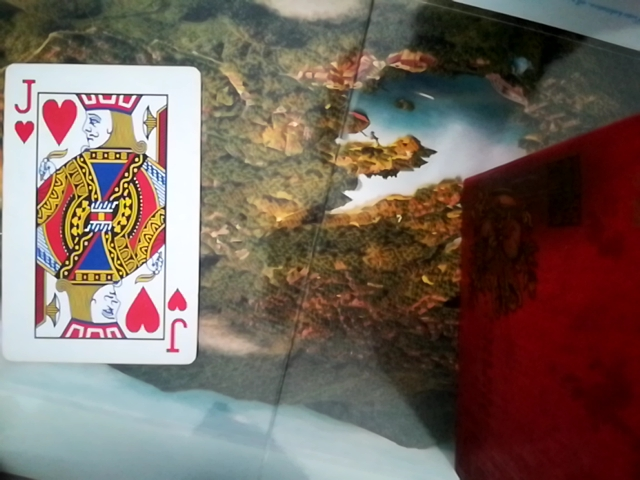hx j: (1, 58, 202, 371)
